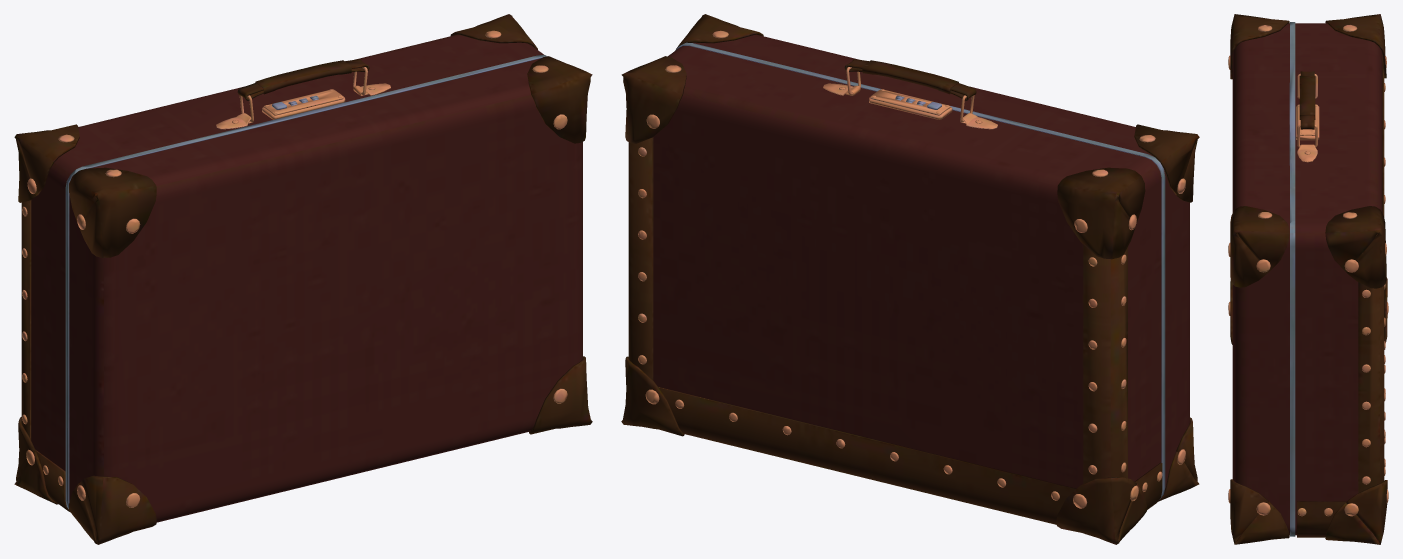
Rendered from suitD.glb.
The picture shows the model from 3 angles, left to right: view 1: azimuth 30°, elevation 25°; view 2: azimuth 150°, elevation 25°; view 3: azimuth 270°, elevation 25°; orthographic projection. The views are drawn at different scales.
Parts seen in each view (by area): view 1: Vintage_Suitcase, corners, metal-edge, lining, handle, lock; view 2: Vintage_Suitcase, lining, corners, metal-edge, handle, lock; view 3: Vintage_Suitcase, corners, lining, metal-edge, handle, lock.
Part boxes in pixels (box(x1,y1,x2,y2)): Vintage_Suitcase: box(31, 34, 582, 522); corners: box(14, 14, 592, 544); metal-edge: box(65, 55, 546, 508); lining: box(21, 200, 70, 512); handle: box(216, 59, 390, 129); lock: box(262, 89, 345, 119); Vintage_Suitcase: box(653, 34, 1189, 488); lining: box(628, 137, 1162, 524); corners: box(621, 14, 1199, 544); metal-edge: box(675, 42, 1165, 499); handle: box(823, 59, 997, 129); lock: box(869, 89, 952, 119); Vintage_Suitcase: box(1232, 23, 1382, 535); corners: box(1228, 14, 1388, 544); lining: box(1297, 54, 1385, 537); metal-edge: box(1289, 22, 1295, 536); handle: box(1297, 71, 1317, 162); lock: box(1296, 104, 1319, 140).
Size of the model in its own units: 0.563 by 0.4201 by 0.1743.
1 material, 1 textured.
